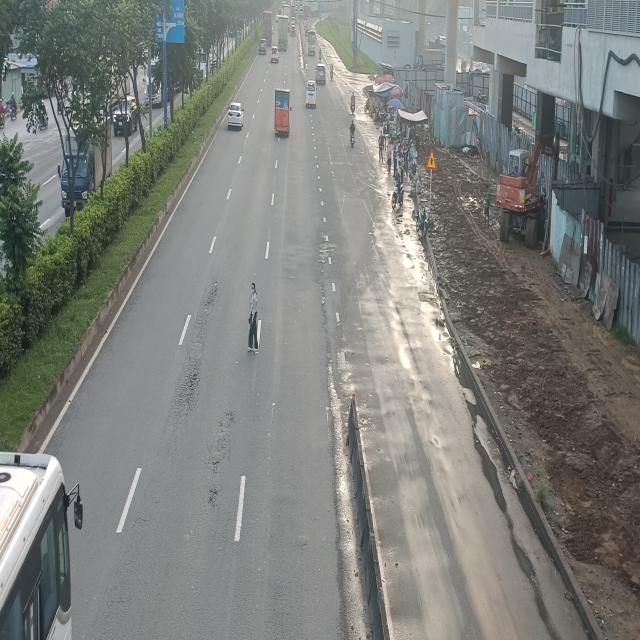car: (229, 101, 245, 129)
truck: (275, 85, 292, 136)
van: (305, 81, 318, 110)
